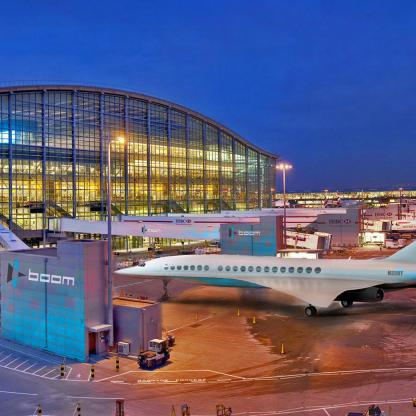CIV_Plane: (112, 237, 416, 320)
